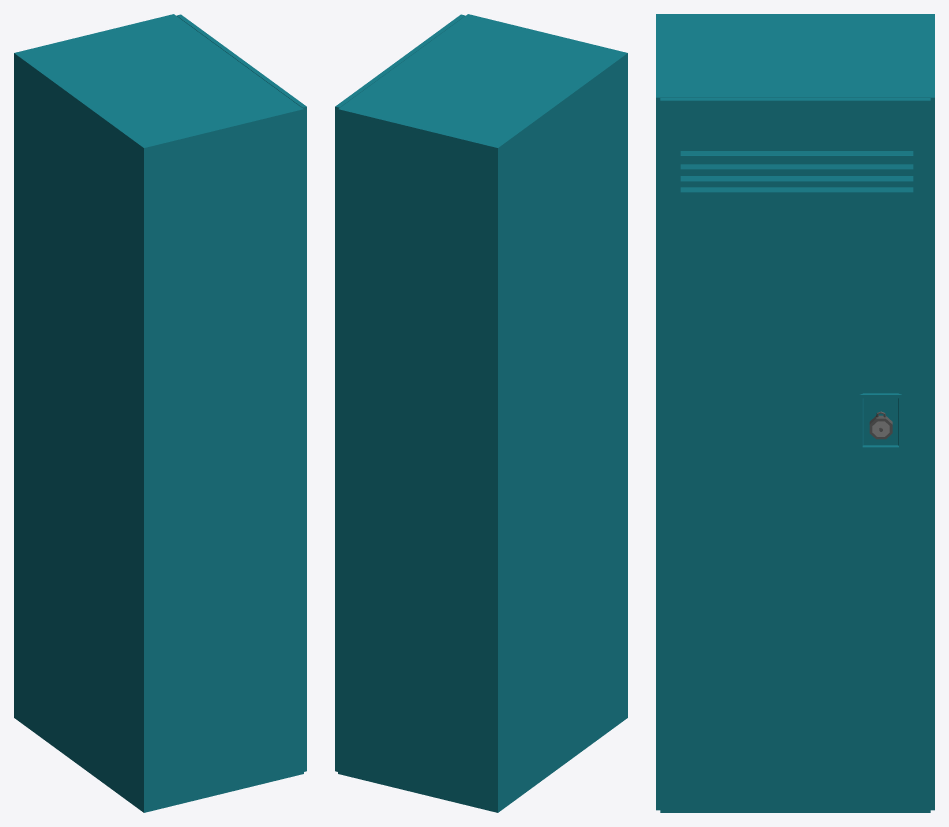
Rendered from Locker.fbx.
3 renders of one model, left to right at view 1: azimuth 30°, elevation 25°; view 2: azimuth 150°, elevation 25°; view 3: azimuth 270°, elevation 25°, orthographic. The views are drawn at different scales.
Parts seen in each view (by area): view 1: Locker_Body, Locker_Door; view 2: Locker_Body, Locker_Door; view 3: Locker_Door, Locker_Body, Lock.
Boxes of the visible parts, left/top/right/bottom form: Locker_Body: left=14, top=14, right=303, bottom=812; Locker_Door: left=176, top=14, right=306, bottom=771; Locker_Body: left=338, top=14, right=627, bottom=812; Locker_Door: left=335, top=14, right=465, bottom=771; Locker_Door: left=660, top=98, right=930, bottom=812; Locker_Body: left=656, top=14, right=934, bottom=810; Lock: left=869, top=411, right=892, bottom=439.
Bounding box in the file's own units: 153 × 564 × 200.
